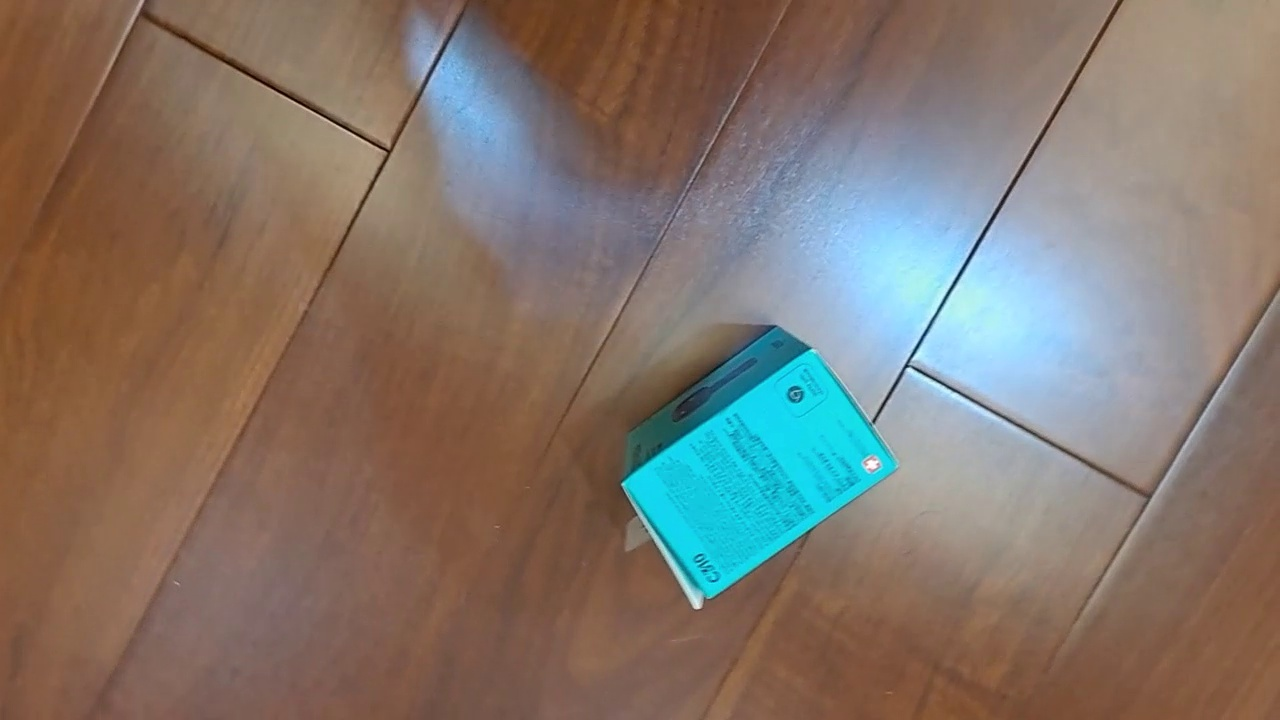webcam: (619, 325, 900, 611)
